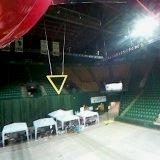Yellow_Triangle_Gshape: (47, 73, 69, 94)
